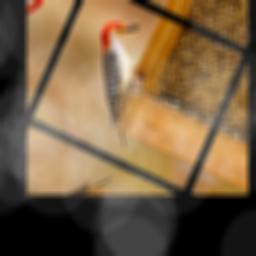Woodpecker: (62, 11, 173, 150)
